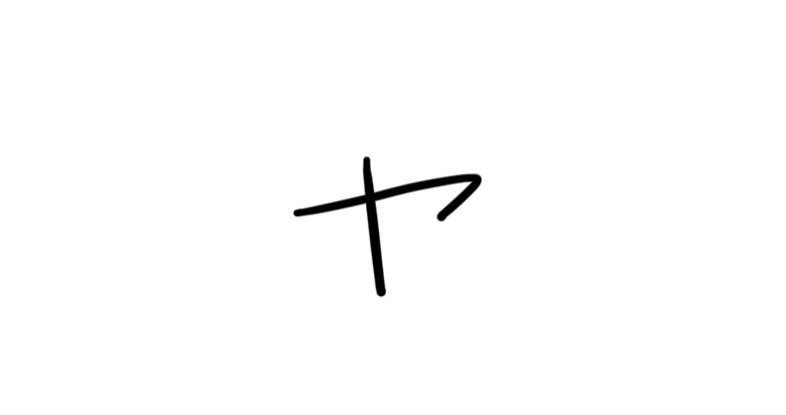ya: (276, 152, 487, 301)
